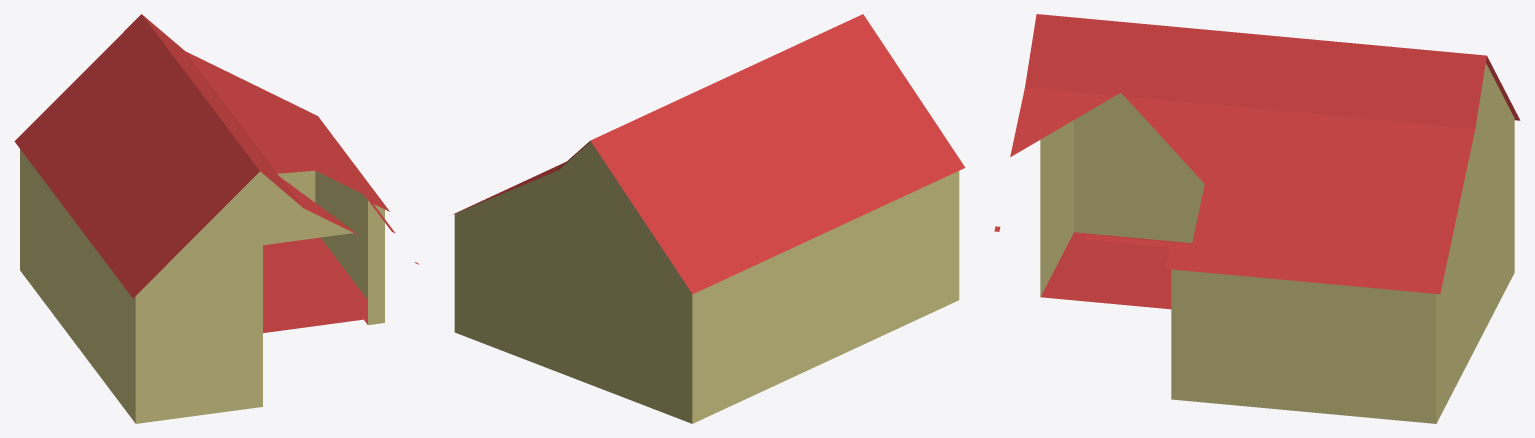
3 views of the same model, side by side, from view 1: azimuth 30°, elevation 25°; view 2: azimuth 150°, elevation 25°; view 3: azimuth 270°, elevation 25° (orthographic). The views are drawn at different scales.
Bounding box in the file's own units: 22.95 × 25.93 × 15.27.
